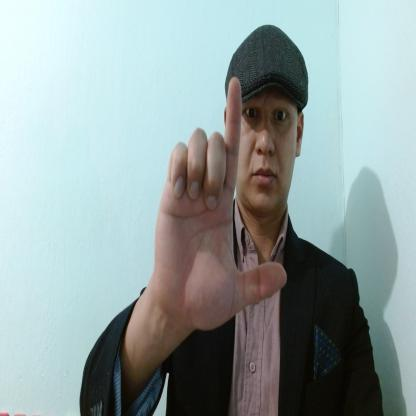L: (154, 76, 287, 332)
